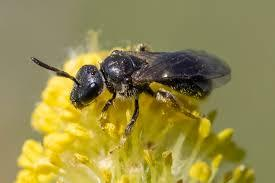Lasioglossum: (32, 40, 238, 131)
